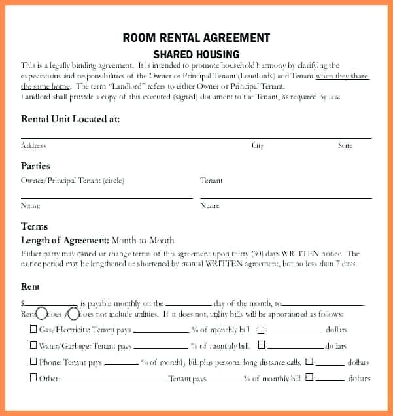checkbox: (63, 307, 84, 322), (31, 306, 50, 321), (304, 355, 315, 368), (256, 324, 267, 336), (303, 372, 315, 383), (28, 372, 39, 383), (28, 341, 39, 351), (256, 339, 266, 349), (29, 356, 38, 366), (29, 323, 37, 334)
textline: (18, 128, 375, 141), (196, 184, 375, 203), (16, 185, 195, 202), (62, 371, 168, 384), (280, 296, 368, 309), (19, 292, 79, 309), (266, 320, 325, 336), (133, 340, 190, 355), (133, 322, 192, 336), (266, 339, 324, 350), (162, 297, 213, 309), (101, 355, 140, 370), (207, 372, 241, 384), (316, 356, 347, 368), (315, 372, 347, 383)
